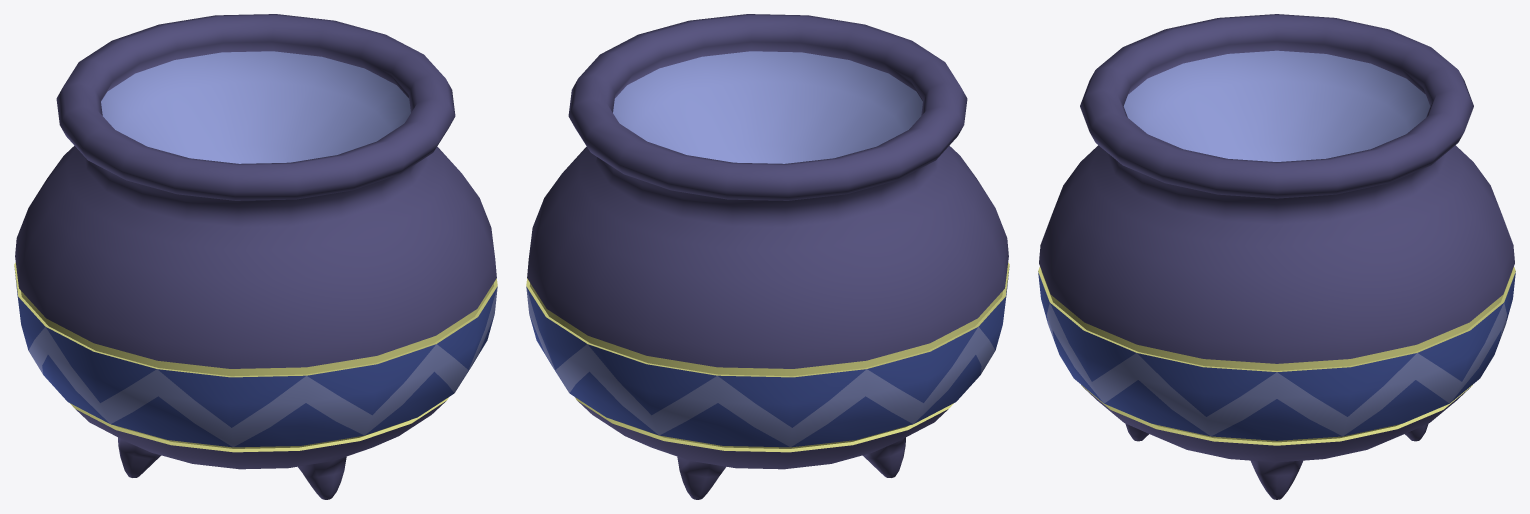
Rendered from PotBlue.fbx.
3 renders of one model, left to right at view 1: azimuth 30°, elevation 25°; view 2: azimuth 150°, elevation 25°; view 3: azimuth 270°, elevation 25°, orthographic.
Parts seen in each view (by area): view 1: pSphere3; view 2: pSphere3; view 3: pSphere3.
Part boxes in pixels (x1,y1,x2,y2): pSphere3: [14, 14, 497, 499]; pSphere3: [526, 14, 1009, 499]; pSphere3: [1038, 14, 1515, 499].
Bounding box in the file's own units: 25.89 × 21 × 25.89.
